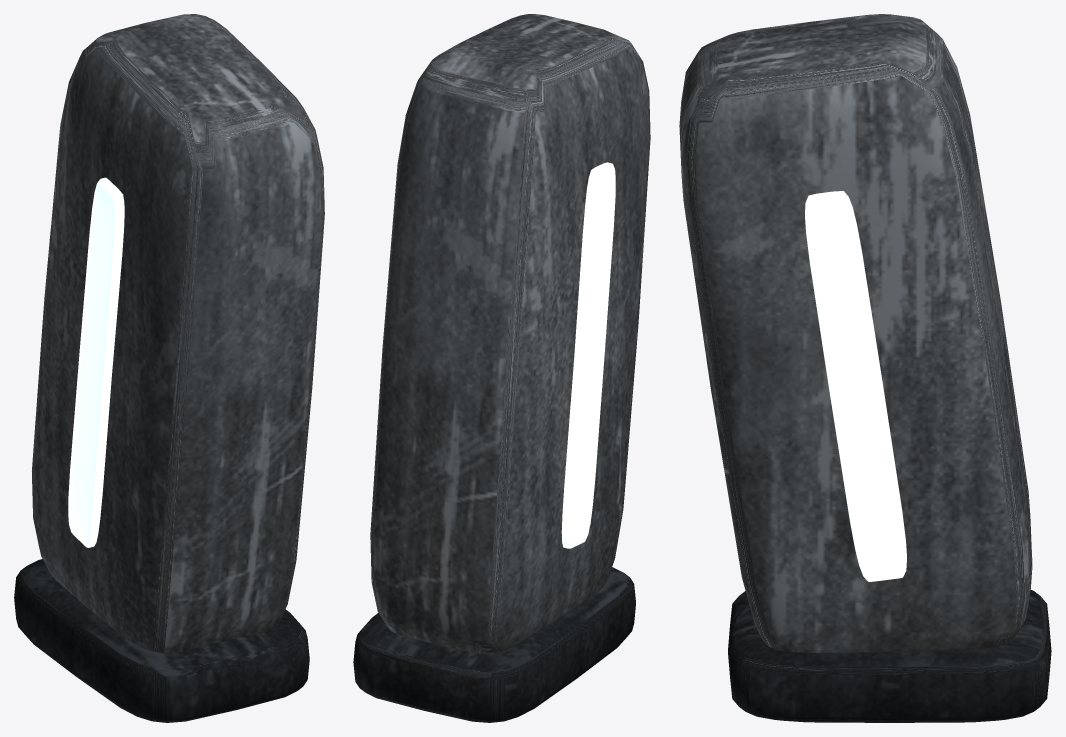
The model's file is kv5_cell.glb.
3 renders of one model, left to right at view 1: azimuth 30°, elevation 25°; view 2: azimuth 150°, elevation 25°; view 3: azimuth 270°, elevation 25°, orthographic. The views are drawn at different scales.
Visible parts, largest first — view 1: kv5_cell; view 2: kv5_cell; view 3: kv5_cell.
Part boxes in pixels (x1,y1,x2,y2): kv5_cell: [14, 14, 324, 722]; kv5_cell: [353, 14, 650, 722]; kv5_cell: [679, 14, 1051, 722].
Size of the model in its own units: 0.032 by 0.1068 by 0.0552.
Materials: 2 (1 with a texture image).
